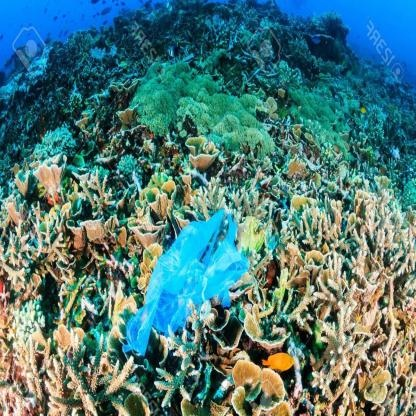pbag: (124, 206, 256, 359)
